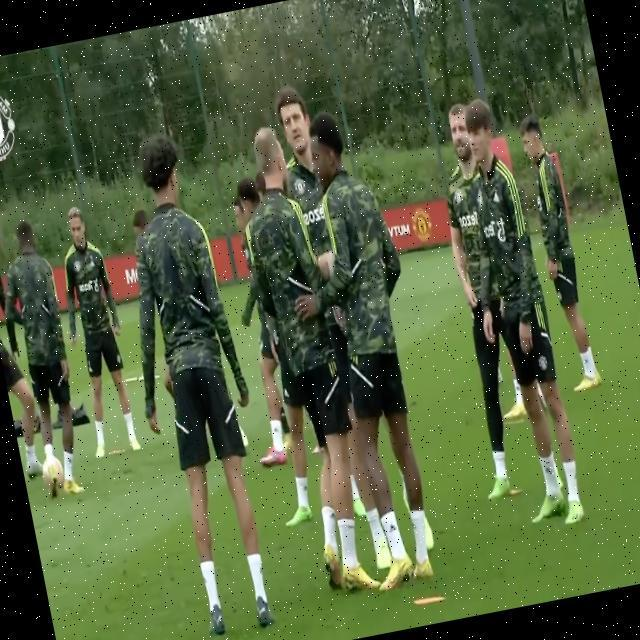Adidas: (386, 519, 399, 536), (543, 461, 554, 478), (491, 189, 502, 206)
